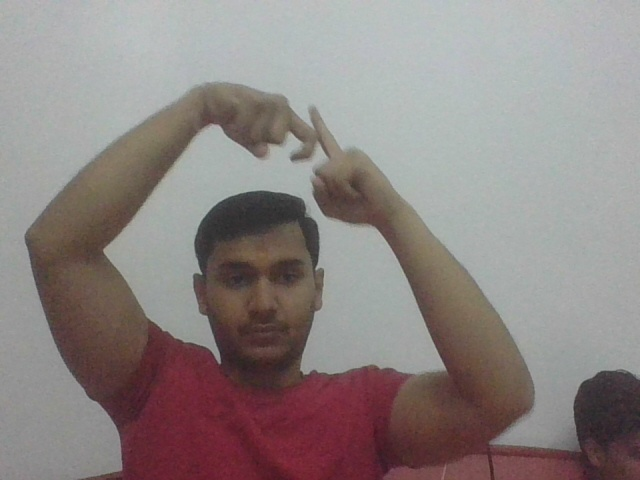K: (271, 89, 358, 173)
